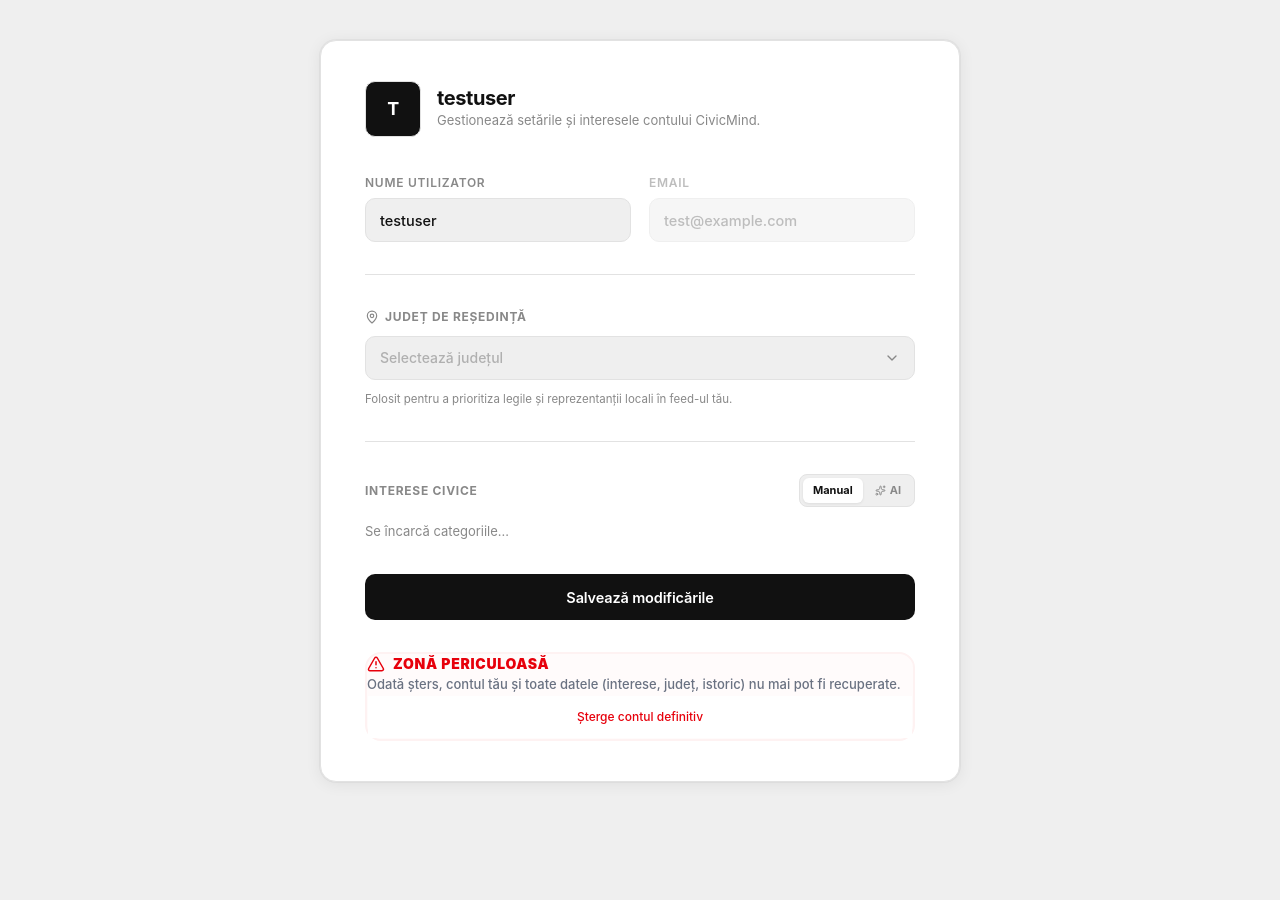
Profile Page › should handle profile update
Replace the text in the field showing "testuser" below "Nume utilizator" with "newusername" at (498, 220), box 365,198 -> 631,242
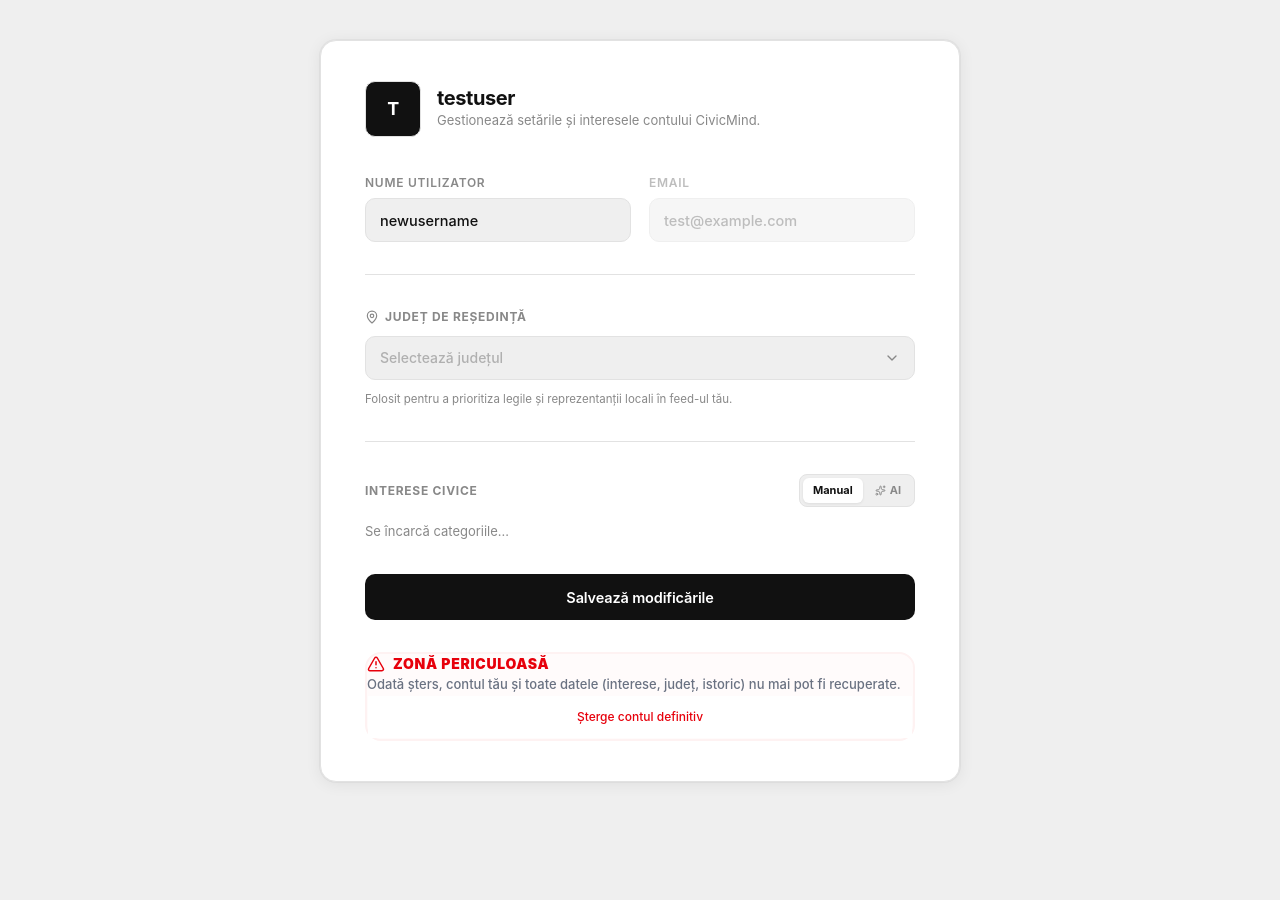
Click the button "Salvează modificările" at (640, 597), box 365,574 -> 915,620
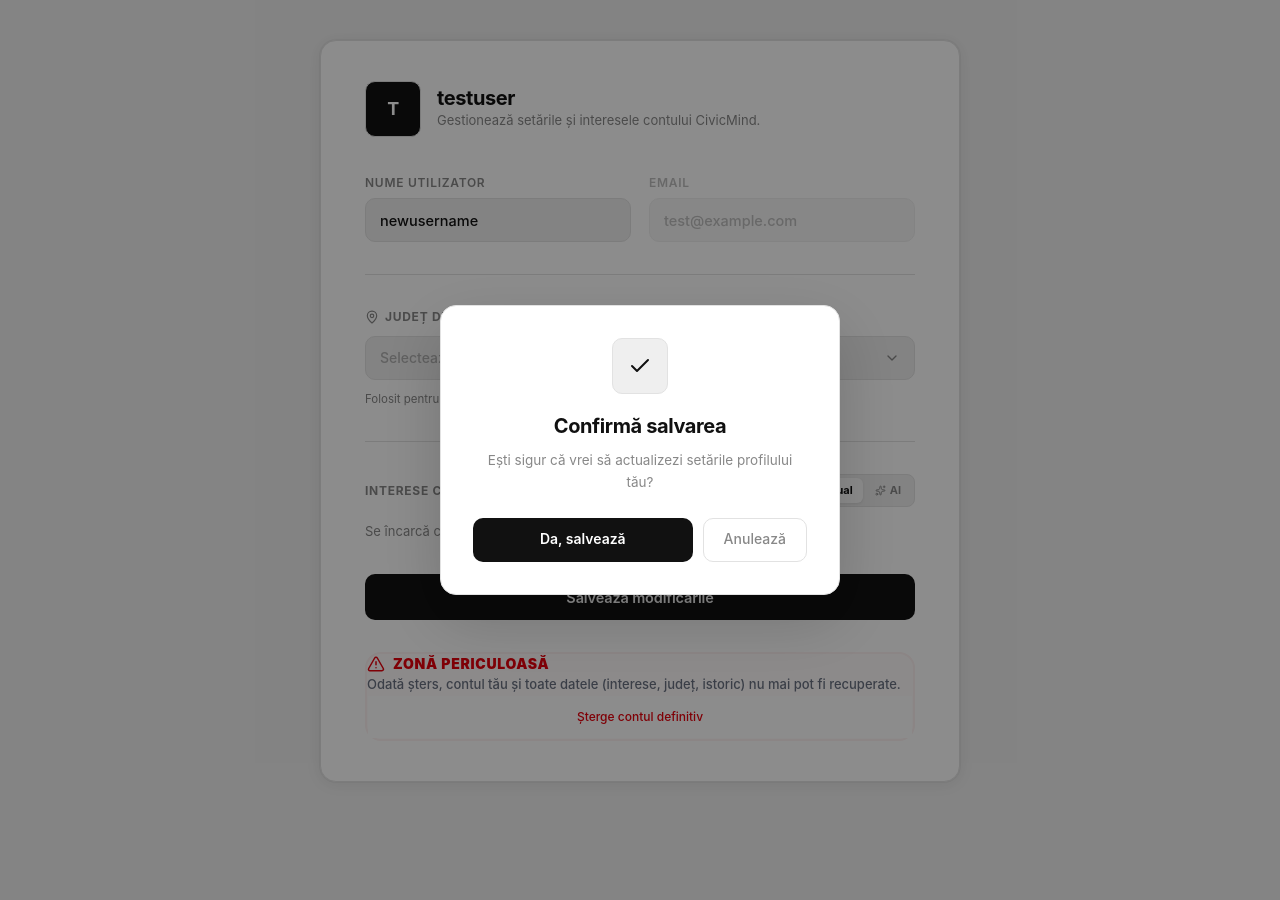
Click the button "Da, salvează" at (583, 540), box 473,518 -> 693,562
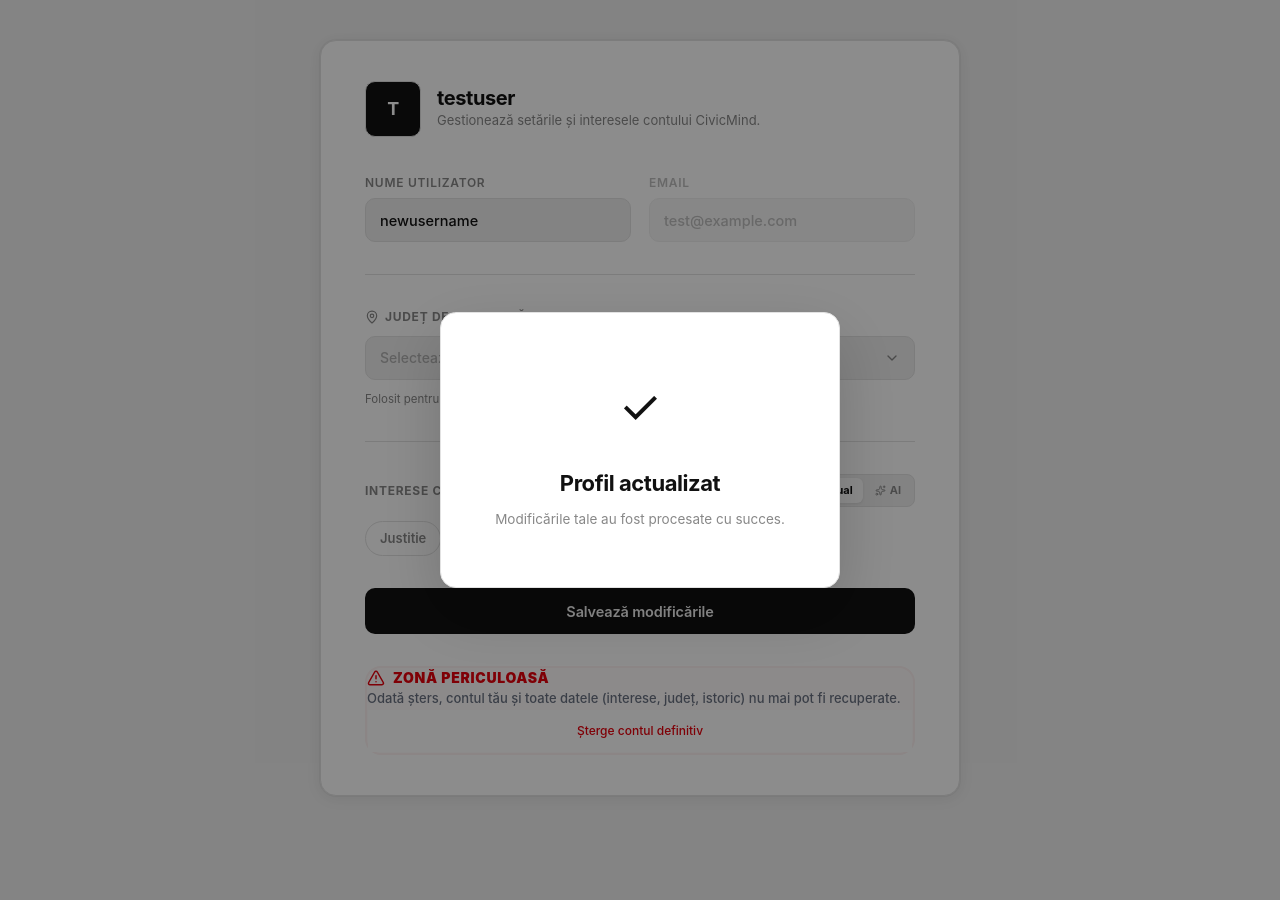
Check: the heading "Profil actualizat" is shown, box 560,470 -> 720,496
